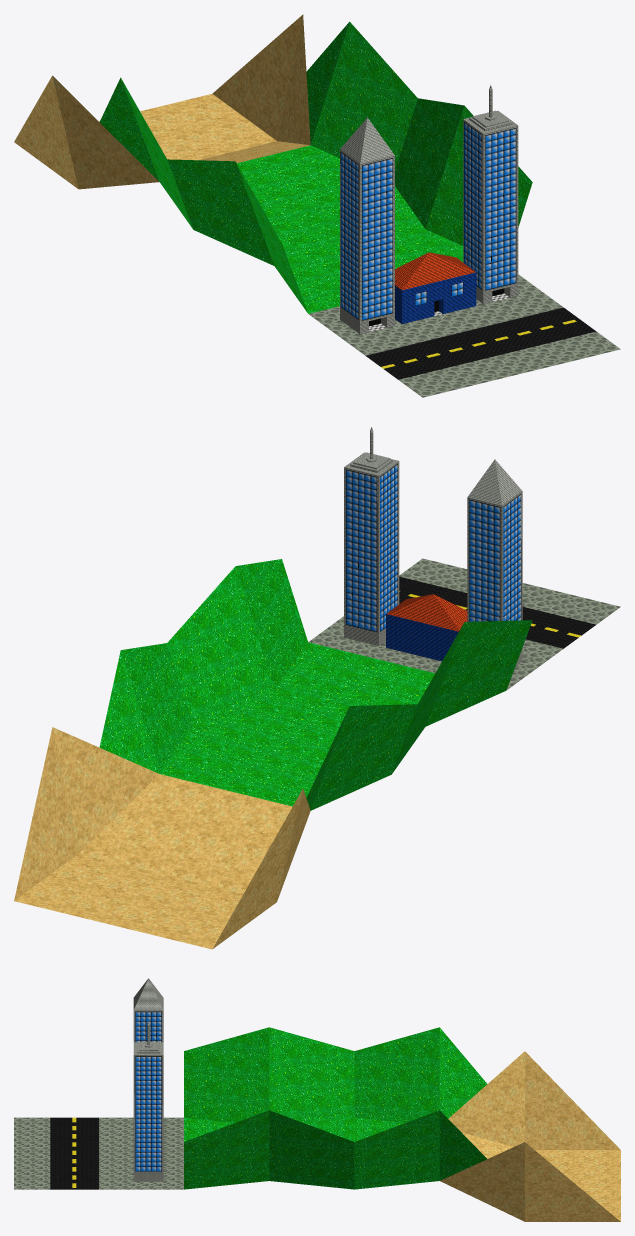
The model's file is City.obj.
3 views of the same model, one above another, from view 1: azimuth 30°, elevation 25°; view 2: azimuth 150°, elevation 25°; view 3: azimuth 270°, elevation 25° (orthographic). The views are drawn at different scales.
Visible parts, largest first — view 1: City-SKP-Grass, City-SKP-Sand, City-SKP-Material10, City-SKP-Material3, City-SKP-Material11, City-SKP-Material4, City-SKP-Material2, City-SKP-Material8, City-SKP-Material9; view 2: City-SKP-Grass, City-SKP-Sand, City-SKP-Material4, City-SKP-Material10, City-SKP-Material2, City-SKP-Material11, City-SKP-Material8, City-SKP-Material9; view 3: City-SKP-Grass, City-SKP-Sand, City-SKP-Material10, City-SKP-Material4, City-SKP-Material11, City-SKP-Material2.
Part boxes in pixels (x1=…): City-SKP-Grass: x1=99, y1=21, x2=532, y2=313; City-SKP-Sand: x1=14, y1=14, x2=310, y2=189; City-SKP-Material10: x1=309, y1=274, x2=620, y2=397; City-SKP-Material3: x1=362, y1=128, x2=516, y2=320; City-SKP-Material11: x1=366, y1=307, x2=595, y2=379; City-SKP-Material4: x1=340, y1=122, x2=481, y2=319; City-SKP-Material2: x1=340, y1=85, x2=518, y2=334; City-SKP-Material8: x1=395, y1=272, x2=476, y2=323; City-SKP-Material9: x1=395, y1=252, x2=475, y2=290; City-SKP-Grass: x1=99, y1=559, x2=532, y2=810; City-SKP-Sand: x1=14, y1=727, x2=310, y2=949; City-SKP-Material4: x1=346, y1=464, x2=521, y2=632; City-SKP-Material10: x1=308, y1=558, x2=620, y2=689; City-SKP-Material2: x1=344, y1=427, x2=522, y2=666; City-SKP-Material11: x1=399, y1=576, x2=595, y2=648; City-SKP-Material8: x1=386, y1=614, x2=458, y2=661; City-SKP-Material9: x1=386, y1=594, x2=467, y2=631; City-SKP-Grass: x1=184, y1=1027, x2=487, y2=1189; City-SKP-Sand: x1=440, y1=1051, x2=620, y2=1221; City-SKP-Material10: x1=14, y1=1117, x2=183, y2=1189; City-SKP-Material4: x1=135, y1=1011, x2=161, y2=1171; City-SKP-Material11: x1=50, y1=1117, x2=98, y2=1189; City-SKP-Material2: x1=133, y1=978, x2=163, y2=1181.
Bounding box in the file's own units: 4.88 × 4.68 × 13.78.
Materials: 12 (11 with a texture image).
